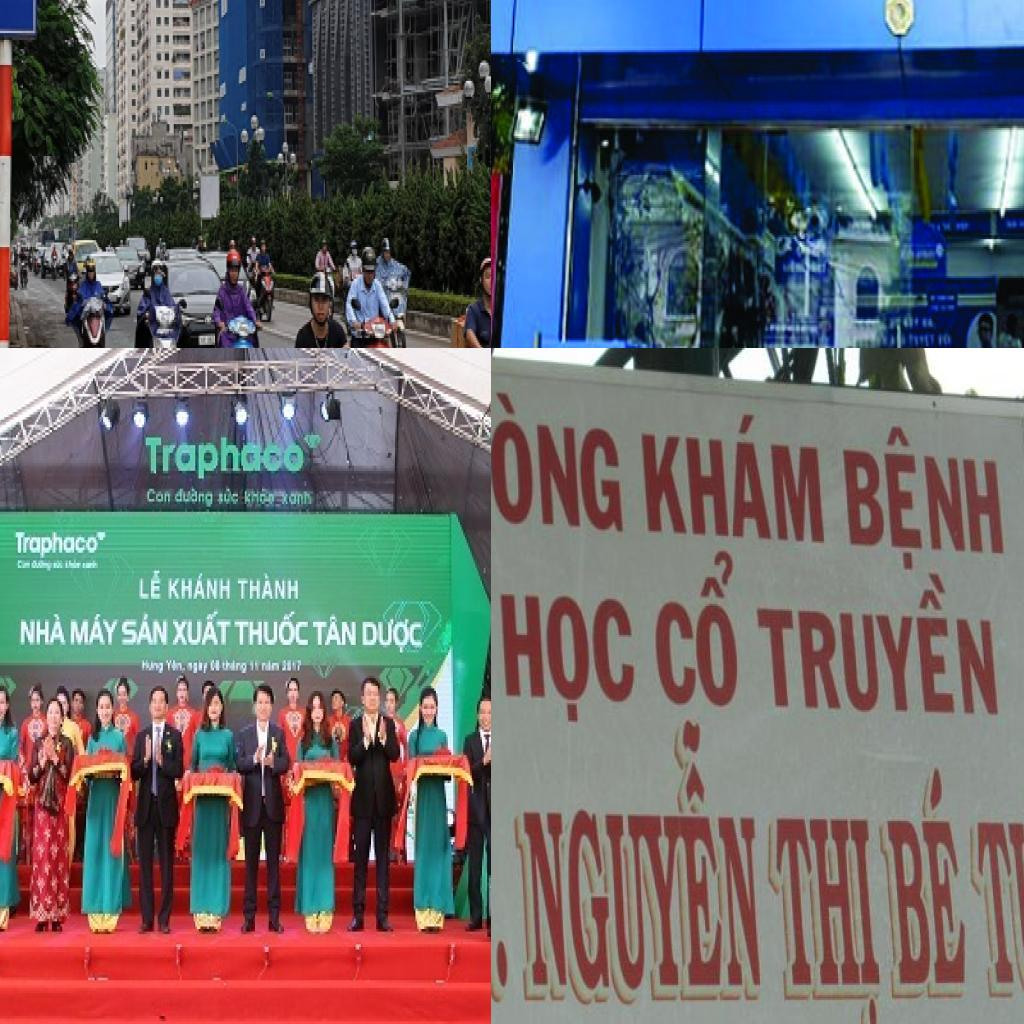text: (507, 725, 765, 1007), (756, 567, 1001, 729), (762, 803, 887, 1024), (642, 406, 830, 552), (839, 417, 1011, 570), (872, 760, 974, 1006), (491, 370, 626, 549), (492, 584, 644, 725), (649, 550, 742, 714), (962, 791, 1024, 1010), (142, 435, 306, 484), (491, 785, 515, 1005), (11, 530, 101, 563), (233, 612, 311, 650), (359, 616, 426, 658), (234, 568, 303, 607), (171, 609, 233, 647), (166, 571, 233, 604), (67, 612, 120, 650), (120, 612, 172, 650), (18, 612, 67, 650), (312, 614, 358, 650), (173, 484, 216, 512), (135, 568, 163, 604), (243, 486, 277, 509), (279, 489, 315, 509), (221, 655, 250, 678), (139, 655, 166, 678), (185, 655, 211, 678), (146, 486, 173, 507), (218, 486, 240, 509), (164, 655, 186, 678), (282, 655, 304, 676), (262, 658, 282, 676), (30, 558, 52, 573), (64, 560, 83, 574), (81, 560, 100, 574), (210, 655, 222, 676), (248, 658, 262, 676), (52, 560, 65, 574), (16, 560, 32, 570)
